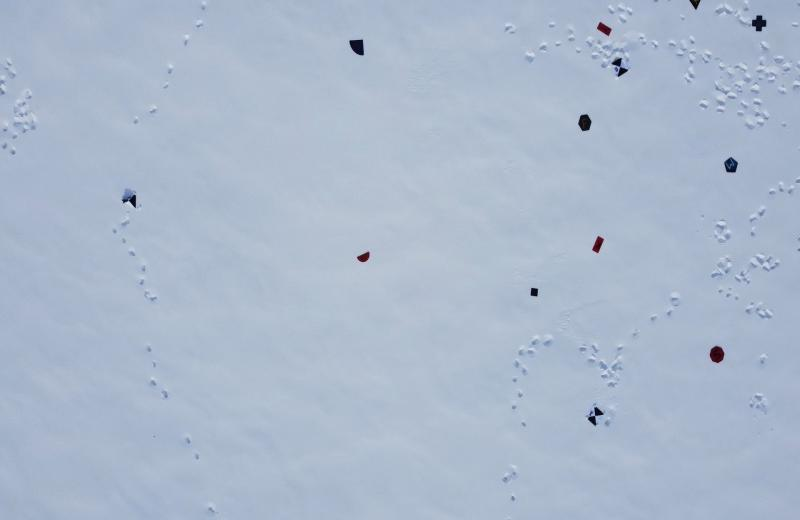Cross: (751, 14, 767, 34)
Hexagon: (576, 114, 592, 133)
Octagon: (710, 344, 725, 365)
Pentagon: (723, 156, 739, 174)
Quarter Circle: (348, 36, 366, 57)
Rectangle: (596, 20, 612, 38), (591, 236, 606, 254)
Semi Circle: (356, 252, 371, 265)
Square: (528, 284, 540, 298)
Triangle: (688, 0, 702, 11)
